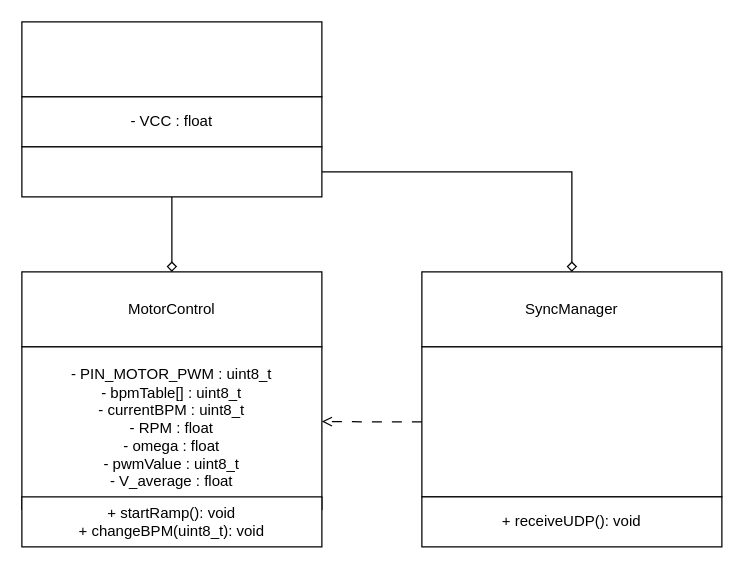
This 744x569 diagram has some shape labels left out. The shapes that lost their labels are listed below. From the top down, each one's box as (x1, y1, x2, y2) in pixels, then its label:
(21, 21, 322, 97): Main
(21, 146, 322, 197): + setup(): void + loop(): void
(421, 346, 722, 497): - LOCAL_PORT : uint16_t - SSID : char[] - PASS : char[]
